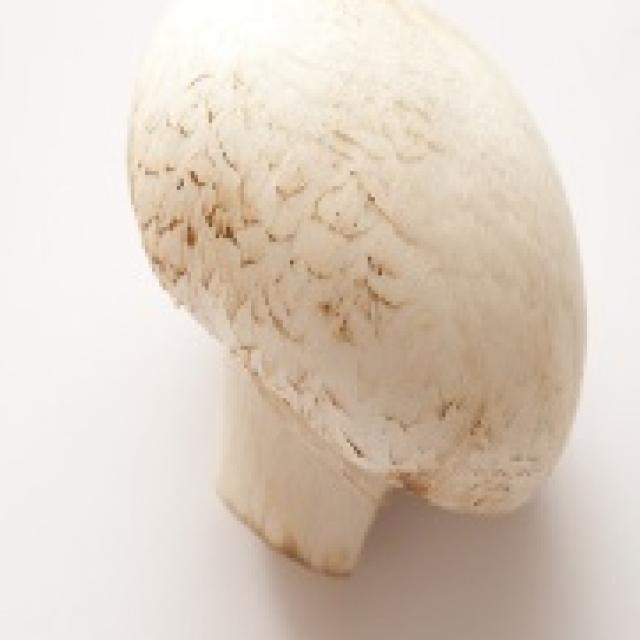mushroom: (113, 0, 594, 595)
